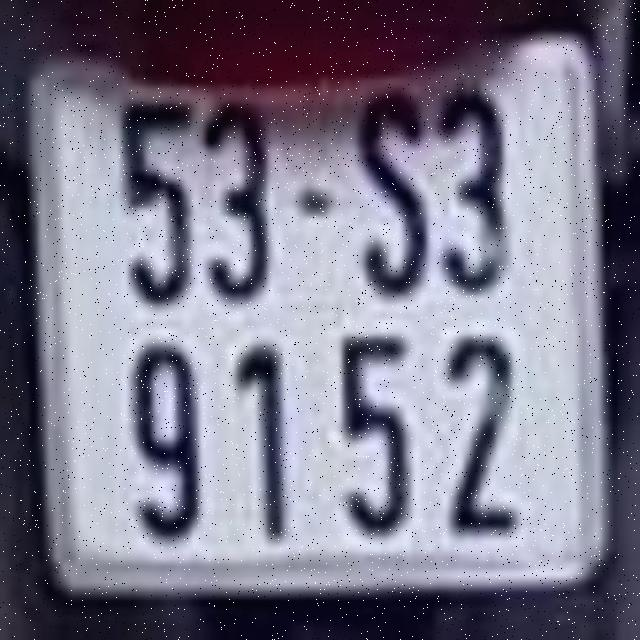1: (232, 339, 296, 543)
2: (444, 331, 524, 534)
3: (203, 98, 273, 304), (439, 86, 508, 293)
5: (116, 95, 196, 307), (338, 329, 414, 536)
9: (127, 338, 205, 541)
S: (356, 86, 430, 297)
